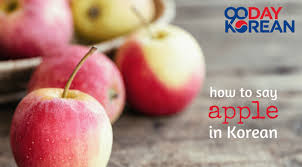apple: (116, 27, 206, 122), (30, 46, 126, 132), (13, 89, 110, 167), (1, 2, 82, 56), (73, 3, 155, 43)
